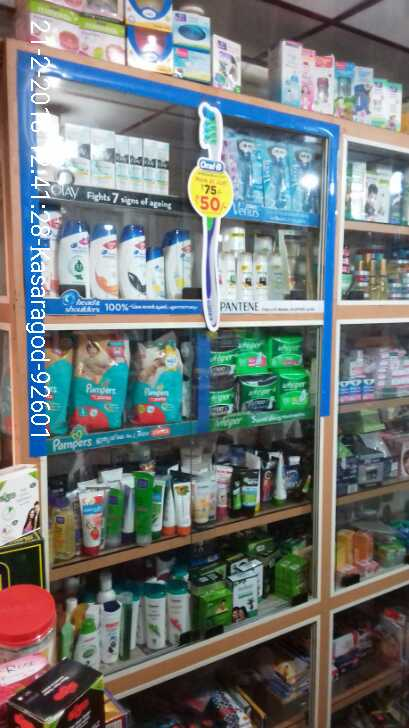venus: (261, 143, 292, 209), (291, 148, 321, 208), (232, 143, 261, 194)
